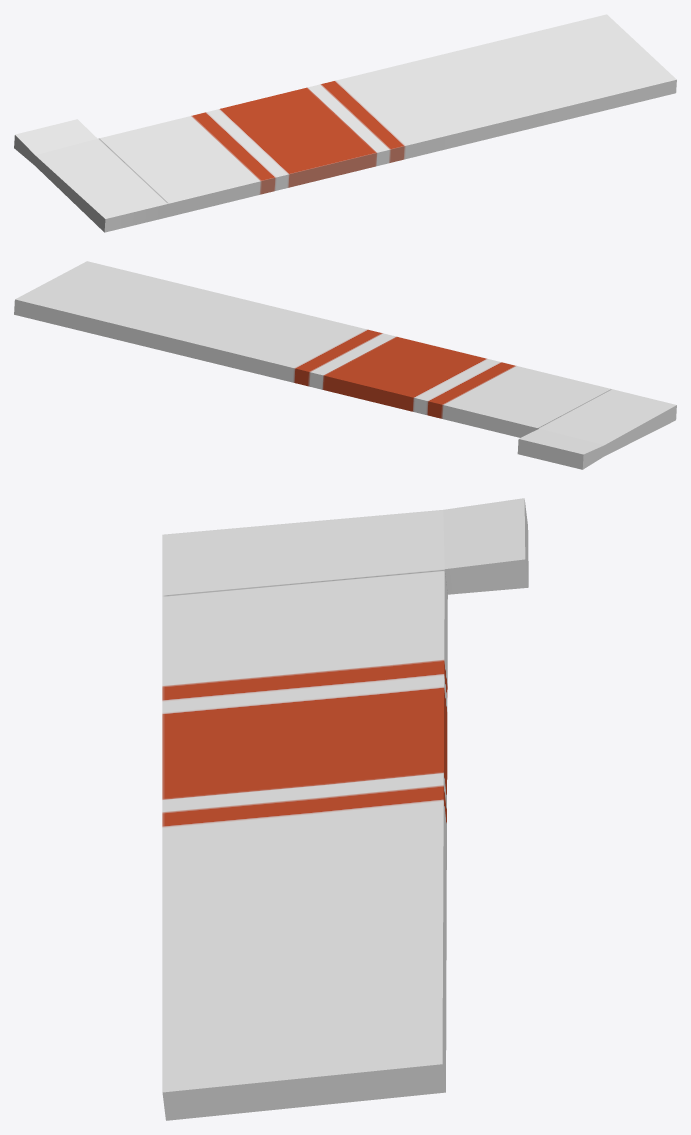
File: LAileron.glb
3 views of the same model, one above another, from view 1: azimuth 30°, elevation 25°; view 2: azimuth 150°, elevation 25°; view 3: azimuth 270°, elevation 25° (orthographic). The views are drawn at different scales.
Visible parts, largest first — view 1: LAileron; view 2: LAileron; view 3: LAileron.
Part boxes in pixels (box(x1,y1,x2,y2)): LAileron: box(14, 14, 676, 232); LAileron: box(14, 261, 676, 469); LAileron: box(162, 498, 528, 1120).
Size of the model in its own units: 0.2097 by 0.0114 by 0.0582.
Materials: 1 (1 with a texture image).
